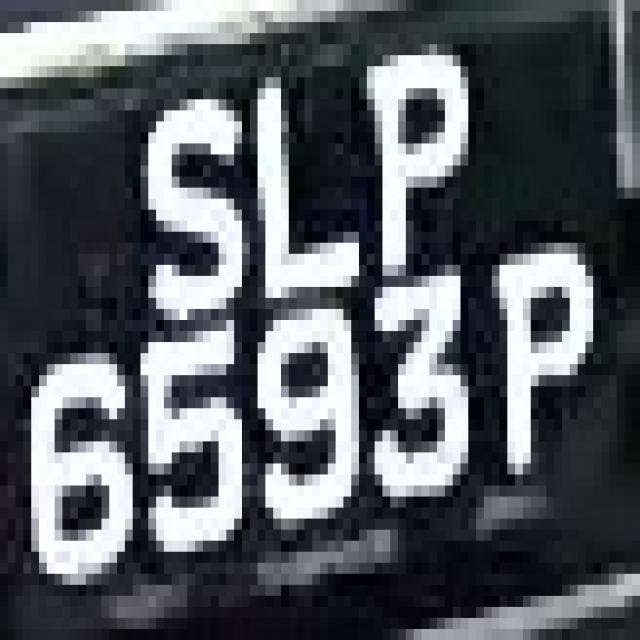3: (352, 264, 468, 518)
5: (125, 320, 257, 585)
6: (16, 331, 132, 618)
9: (242, 253, 375, 530)
L: (226, 11, 359, 309)
P: (484, 220, 609, 530), (344, 33, 468, 298)
S: (117, 55, 242, 342)
